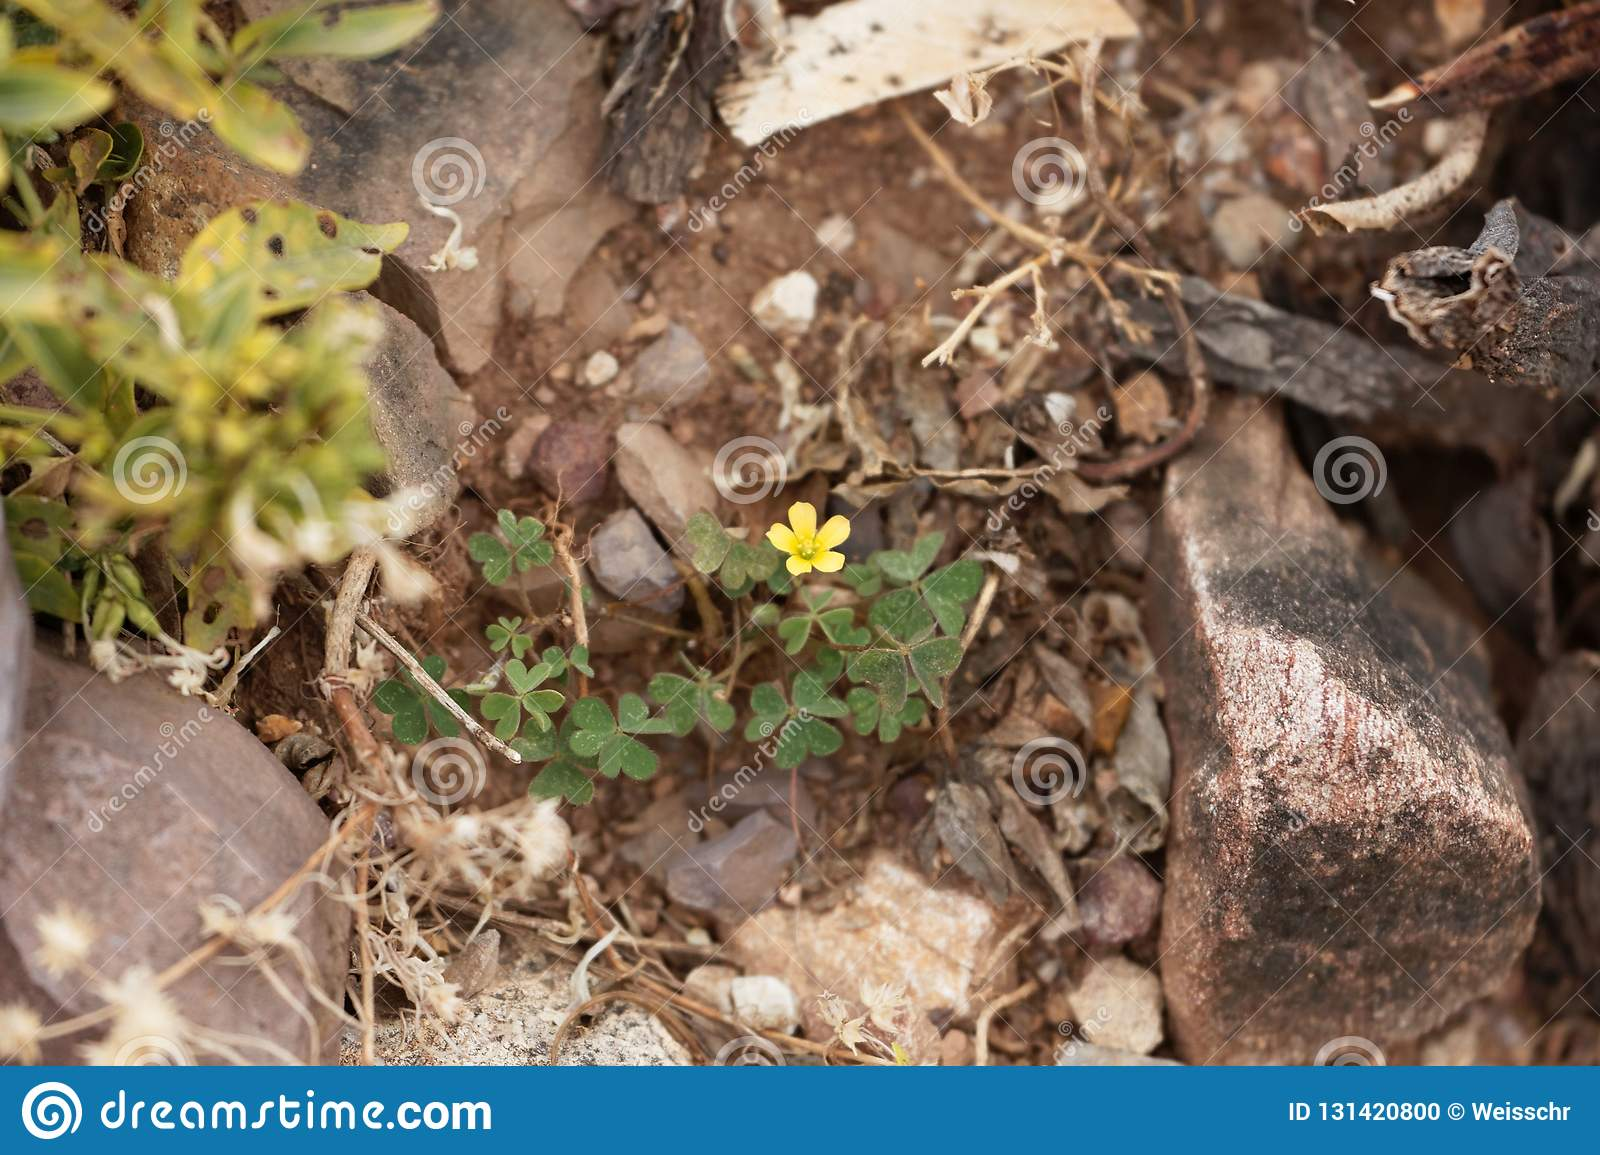oxalis: (514, 464, 975, 790)
